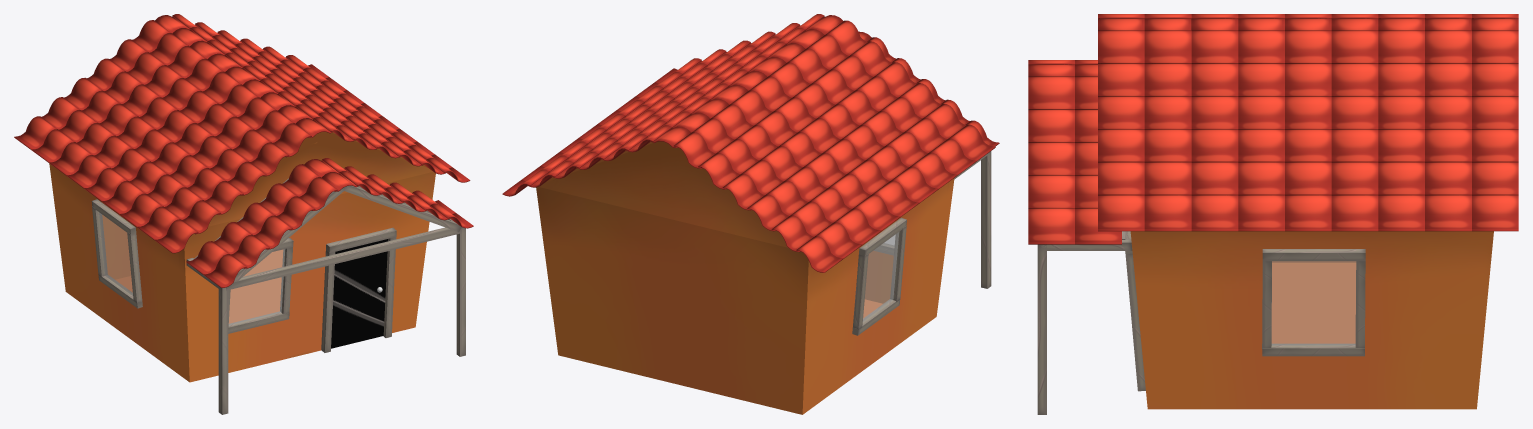
The model's file is Casinha2.0.fbx.
The picture shows the model from 3 angles, left to right: view 1: azimuth 30°, elevation 25°; view 2: azimuth 150°, elevation 25°; view 3: azimuth 270°, elevation 25°; orthographic projection. The views are drawn at different scales.
Parts seen in each view (by area): view 1: telhado, Cube.016, telhado.002, Cube.045, telhado.001, telhado.003, Plane.003, Plane.007, Cube, Plane.004, Cube.005, Plane.010 (+17 smaller); view 2: Cube.016, telhado, telhado.002, Cube.045, Plane.007, Plane.006, Plane.012, Cube, telhado.003, Cube.026, Cube.028, Cube.025 (+2 smaller); view 3: telhado, Cube.016, Cube.045, telhado.001, Plane.005, Plane.011, Plane.007, telhado.002, telhado.003, Cube, Cube.029, Cube.021 (+6 smaller).
Boxes of the visible parts, <box> form: telhado: <box>15,14,470,253</box>; Cube.016: <box>49,132,429,382</box>; telhado.002: <box>14,15,469,253</box>; Cube.045: <box>49,132,435,381</box>; telhado.001: <box>188,158,473,287</box>; telhado.003: <box>186,160,473,287</box>; Plane.003: <box>331,239,387,347</box>; Plane.007: <box>154,15,333,137</box>; Cube: <box>218,227,465,414</box>; Plane.004: <box>229,249,284,325</box>; Cube.005: <box>226,227,461,290</box>; Plane.010: <box>229,249,284,324</box>; Cube.016: <box>536,141,954,414</box>; telhado: <box>502,14,978,272</box>; telhado.002: <box>515,14,995,272</box>; Cube.045: <box>545,142,953,414</box>; Plane.007: <box>653,18,842,147</box>; Plane.006: <box>863,233,898,321</box>; Plane.012: <box>863,232,898,321</box>; Cube: <box>981,151,991,288</box>; telhado.003: <box>868,37,999,146</box>; Cube.026: <box>890,226,905,301</box>; Cube.028: <box>853,253,868,329</box>; Cube.025: <box>859,217,906,255</box>; telhado: <box>1098,14,1518,231</box>; Cube.016: <box>1130,231,1493,409</box>; Cube.045: <box>1130,231,1493,409</box>; telhado.001: <box>1028,60,1121,244</box>; Plane.005: <box>1272,261,1355,345</box>; Plane.011: <box>1272,262,1355,345</box>; Plane.007: <box>1098,19,1518,30</box>; telhado.002: <box>1098,14,1474,229</box>; telhado.003: <box>1028,60,1121,242</box>; Cube: <box>1037,244,1046,414</box>; Cube.029: <box>1037,244,1046,414</box>; Cube.021: <box>1262,249,1365,261</box>.
Size of the model in its own units: 2443 by 1861 by 2623.
